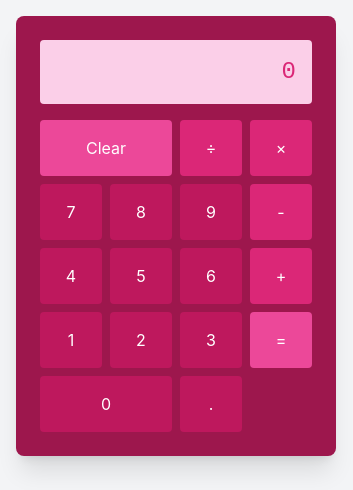
Calculator.vue › should add digits correctly
The image size is (353, 490).
# Click en el botón "7"
Click the button "7". click: (71, 212)
box: [40,184,102,240]
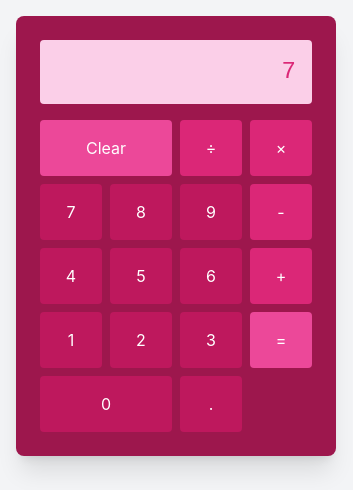
Result: the text "7" is shown at [282,58,296,85]
# Click en el botón "8"
Click the button "8". click: (141, 212)
box: [110,184,172,240]
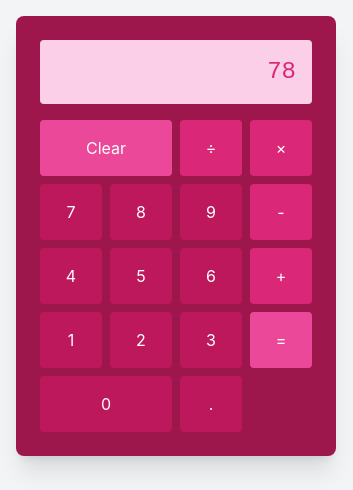
Result: the text "78" is shown at [267,58,296,85]
